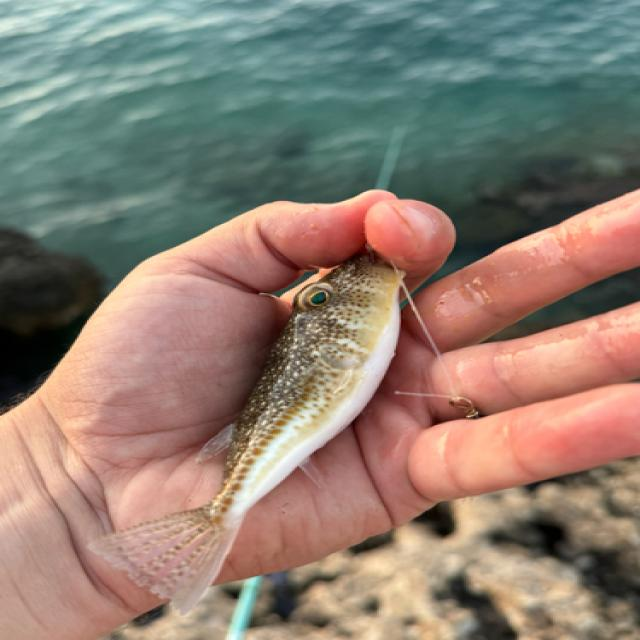Balik: (89, 255, 404, 614)
